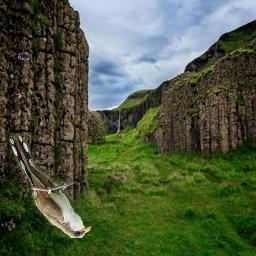Crow: (18, 50, 32, 62)
Cuckoo: (9, 134, 91, 238)
